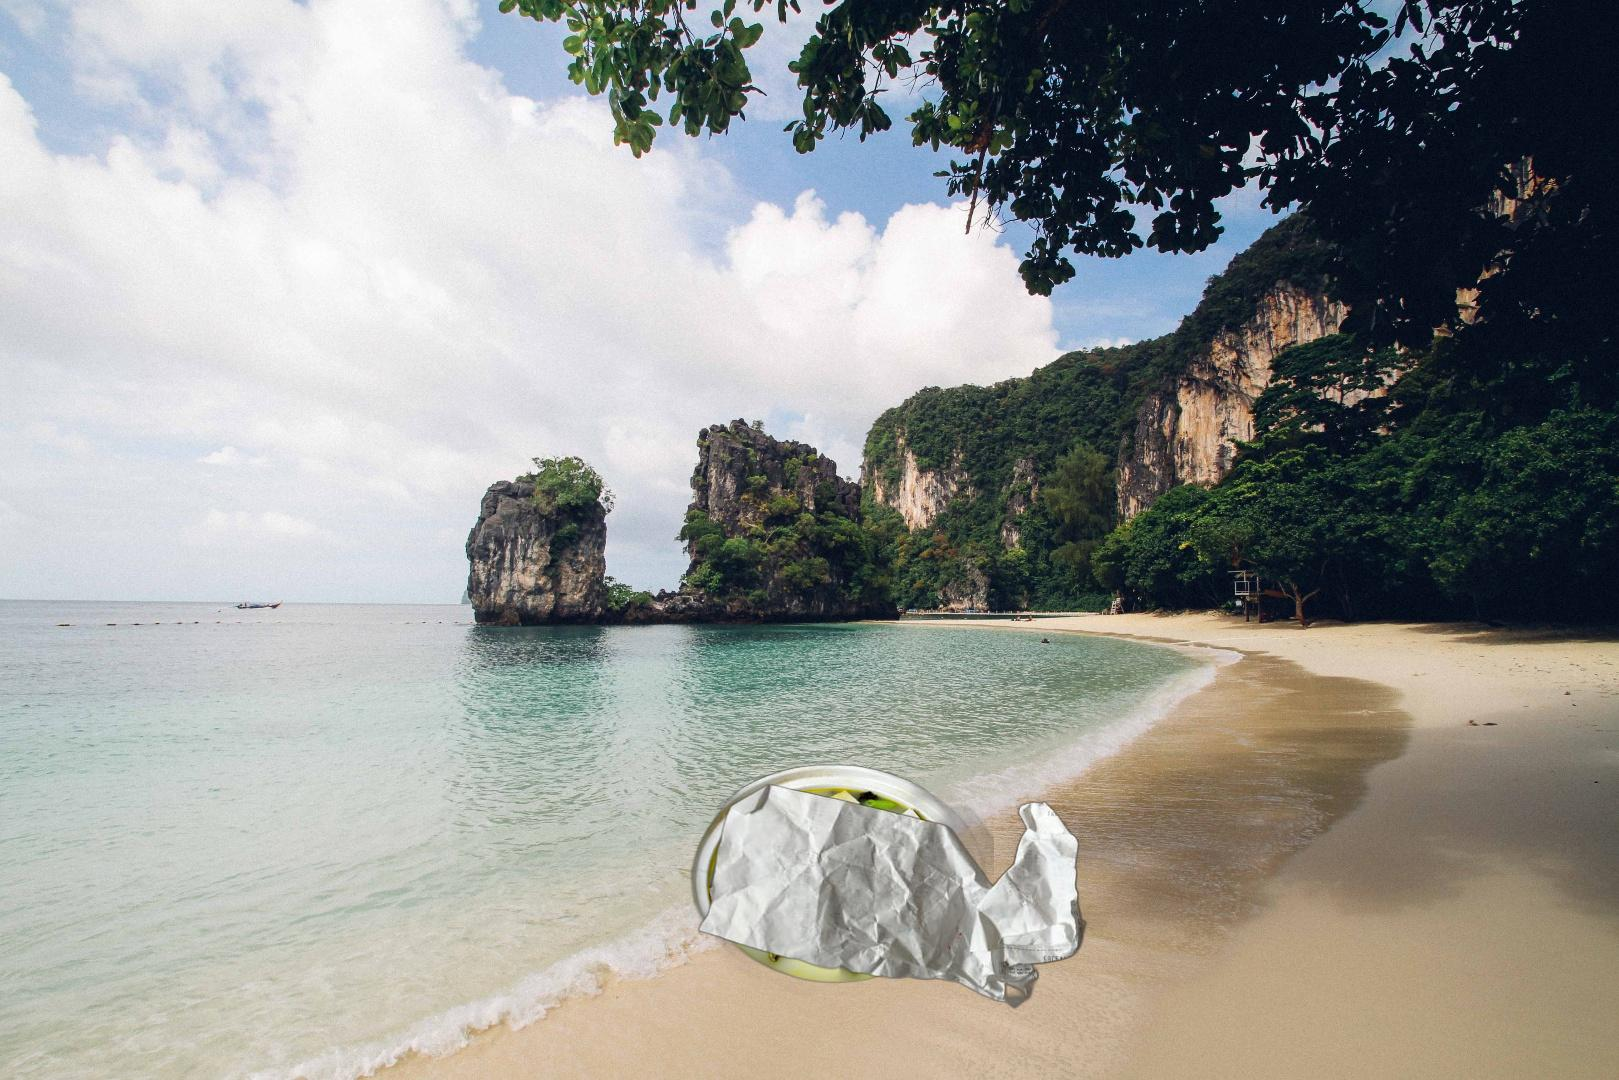biological: (684, 762, 995, 1000)
paper: (691, 783, 1090, 1011)
